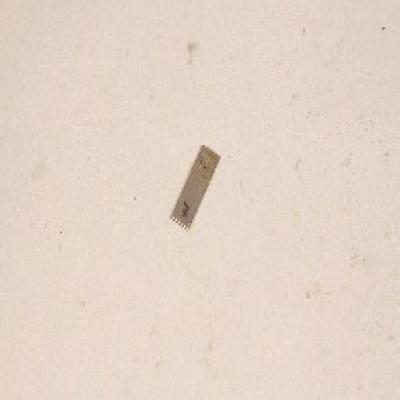technique: (170, 145, 222, 232)
